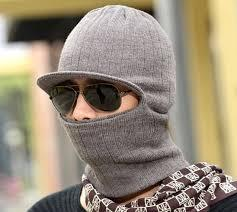cap: (36, 2, 188, 99)
scarf-kerchief: (54, 103, 194, 183)
sunglasses: (43, 79, 129, 116)
